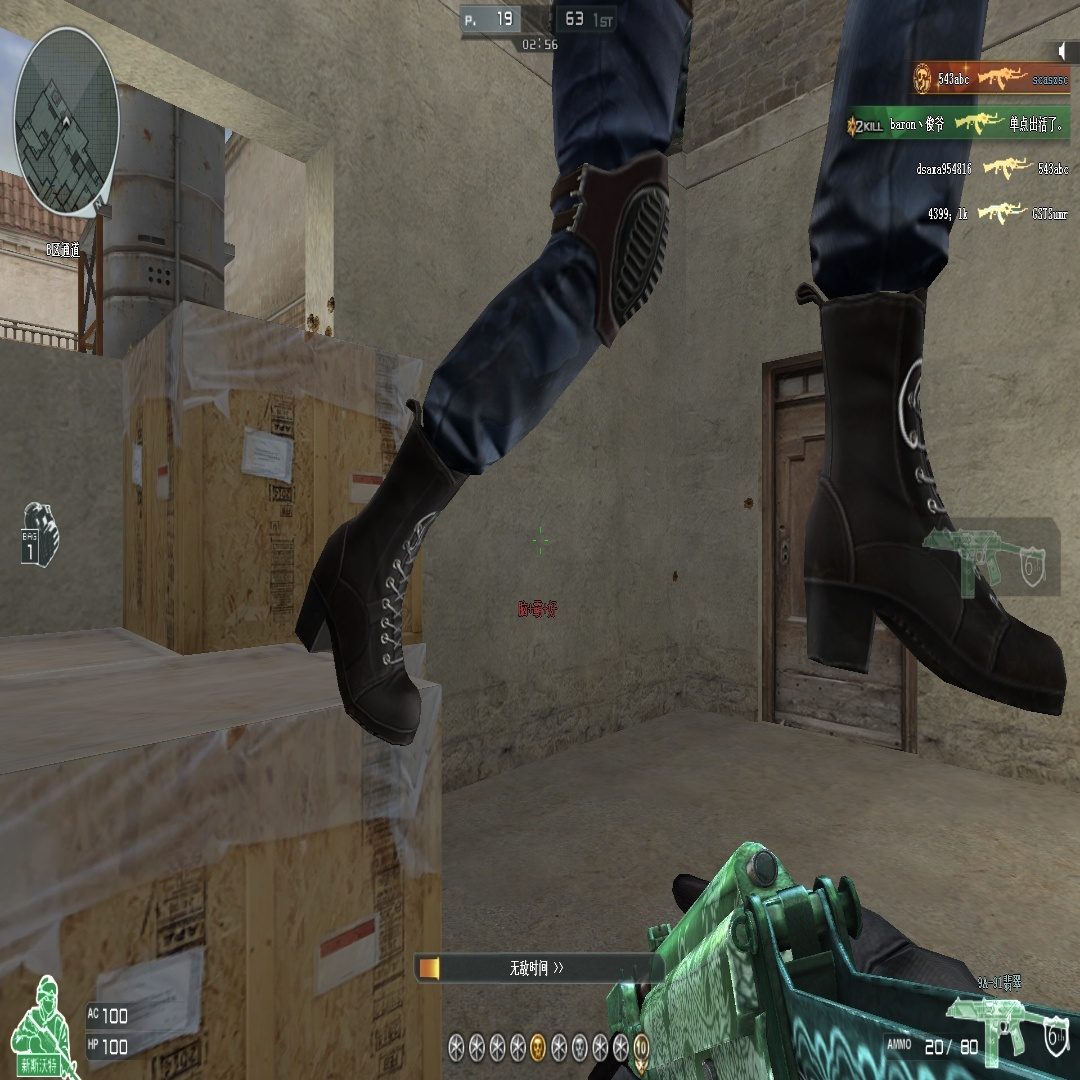p: (795, 20, 1065, 726)
